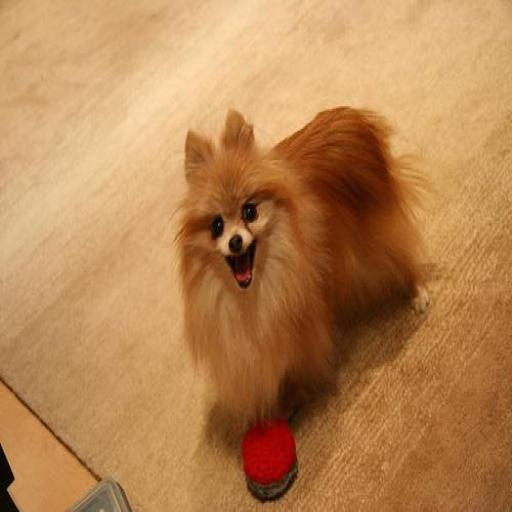dog_face: (178, 122, 272, 290)
